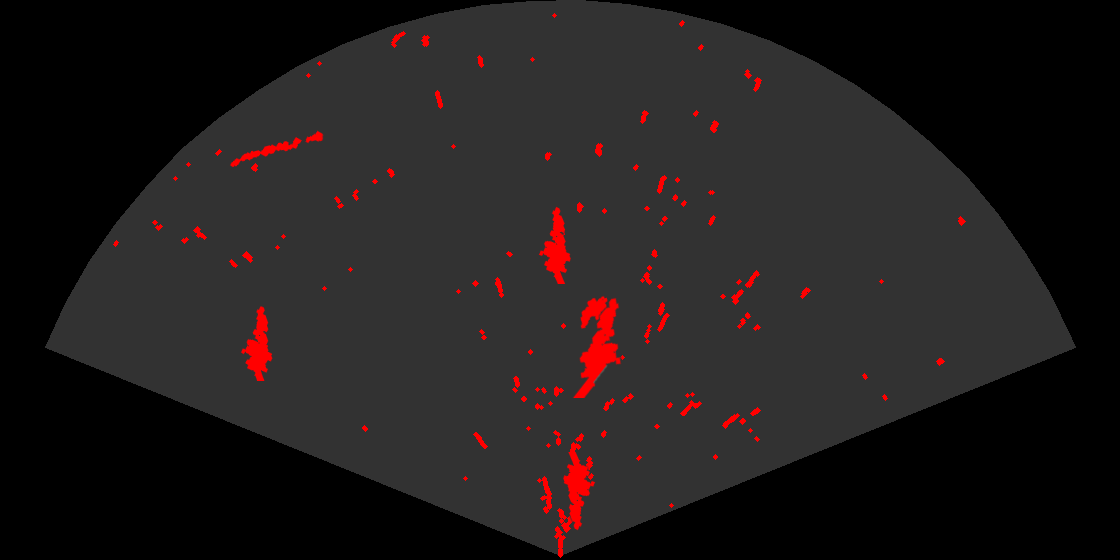AUV: (579, 294, 609, 330)
chain: (229, 129, 326, 169)
frogman: (571, 296, 623, 398), (562, 452, 597, 532), (537, 205, 572, 284), (240, 305, 274, 381)
